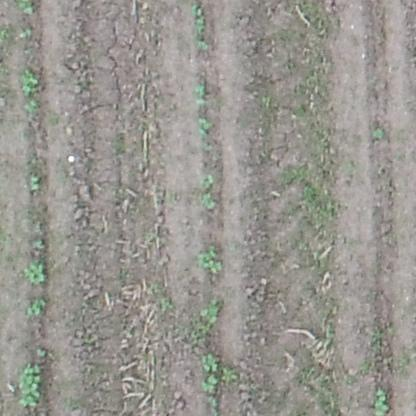vc: (17, 362, 43, 409), (189, 4, 214, 52), (199, 243, 225, 277), (19, 68, 43, 96), (24, 261, 52, 285), (371, 382, 392, 414), (197, 115, 218, 140), (26, 296, 49, 318), (198, 373, 222, 394), (199, 302, 222, 322), (201, 353, 221, 372), (198, 170, 217, 188), (201, 192, 217, 211), (24, 98, 39, 118), (372, 125, 388, 141), (29, 173, 42, 190), (35, 346, 49, 360), (195, 80, 207, 96)
